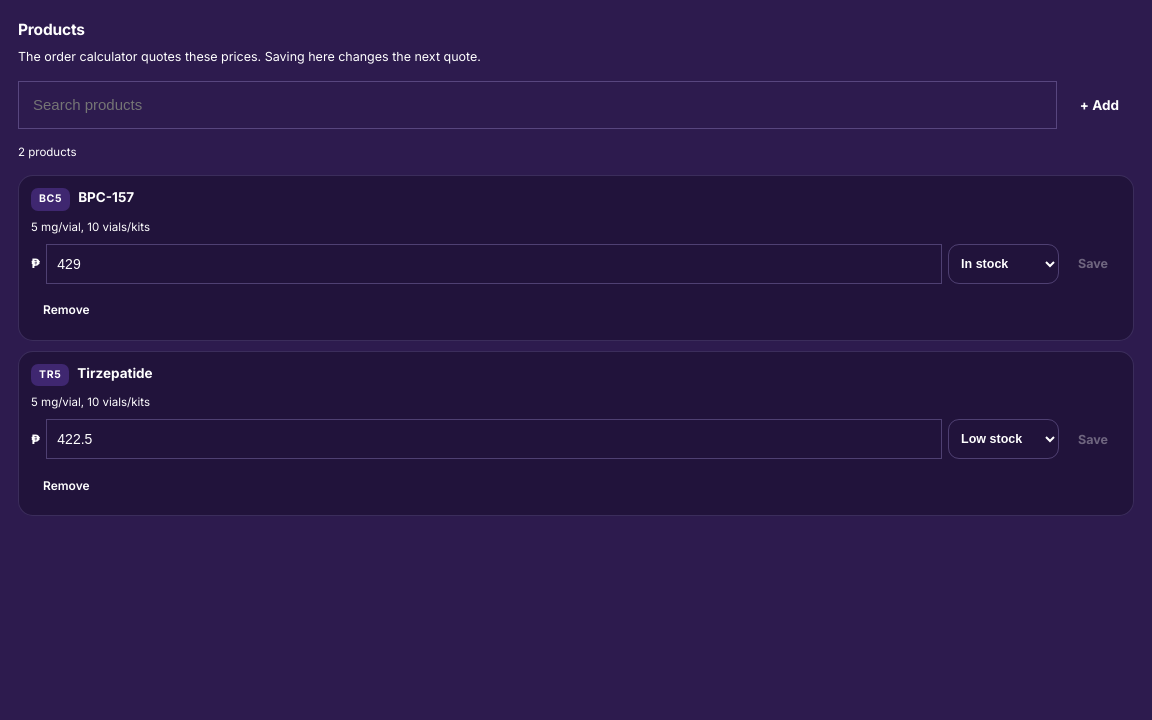
Test: ProductsCard — finding a product › filters by name
Type "tirzep" into the search field labelled "Search products". click: (537,105)
box: [18,81,1057,129]
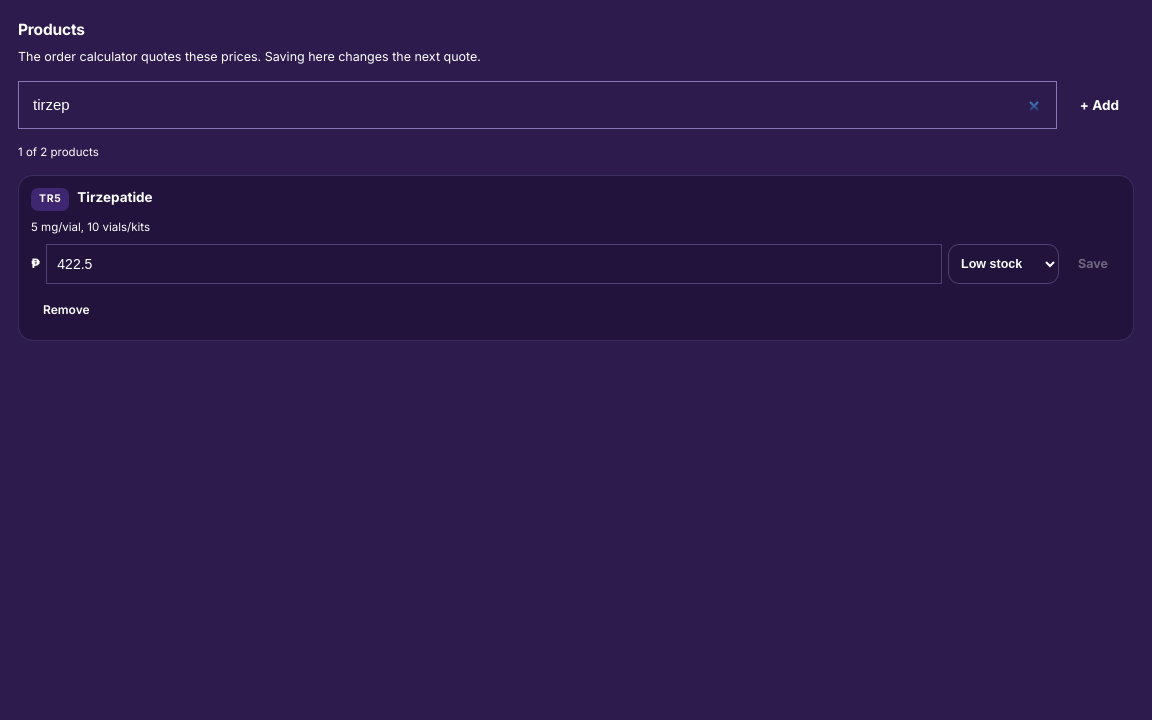
Expected: the text "Tirzepatide" is shown, [77,188,153,206]
Expected: the text "BPC-157" is gone
